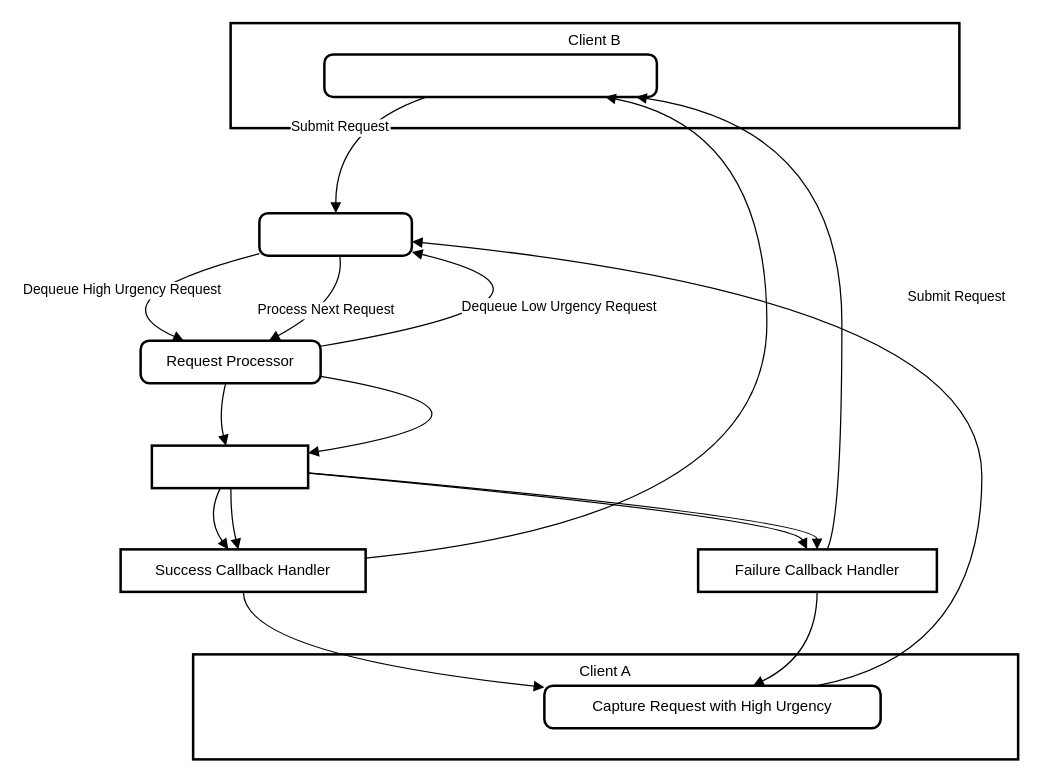
Some shapes in this 1040 by 781 pixel diagram are drawn without their labels. Each missing label, with the centre of its shape:
Camera Module: pixel 229 466
Capture Request with Low Urgency: pixel 490 75
Request Queue: pixel 335 233
